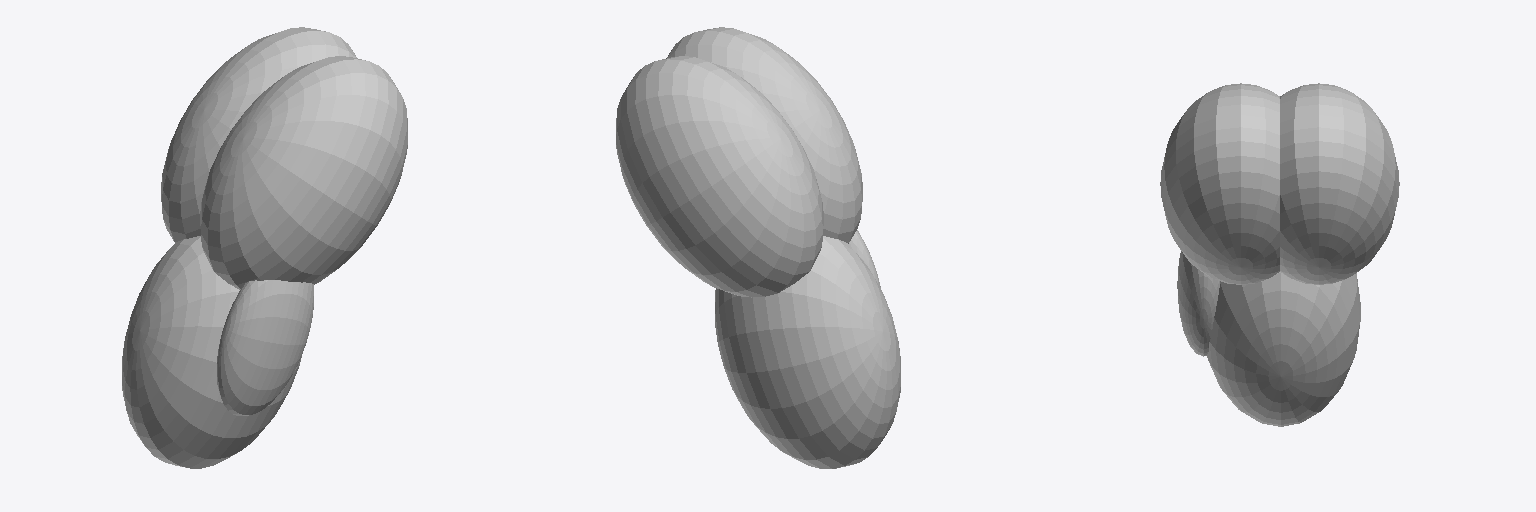
Rendered from uphand.obj.
The picture shows the model from 3 angles: view 1: azimuth 30°, elevation 25°; view 2: azimuth 150°, elevation 25°; view 3: azimuth 270°, elevation 25°; orthographic projection.
Parts seen in each view (by area): view 1: superman:pSphere2, superman:pSphere3, superman:pSphere1, superman:pSphere4; view 2: superman:pSphere1, superman:pSphere3, superman:pSphere2; view 3: superman:pSphere1, superman:pSphere2, superman:pSphere3, superman:pSphere4.
Boxes of the visible parts, x1,y1,x2,y2 form: superman:pSphere2: [200, 56, 407, 289]; superman:pSphere3: [122, 236, 301, 468]; superman:pSphere1: [161, 27, 357, 241]; superman:pSphere4: [217, 280, 313, 415]; superman:pSphere1: [616, 56, 823, 297]; superman:pSphere3: [715, 236, 900, 468]; superman:pSphere2: [666, 27, 862, 243]; superman:pSphere1: [1280, 83, 1399, 284]; superman:pSphere2: [1160, 83, 1279, 284]; superman:pSphere3: [1207, 272, 1360, 426]; superman:pSphere4: [1177, 251, 1219, 356].
Bounding box in the file's own units: 1.91 × 2.81 × 1.58.